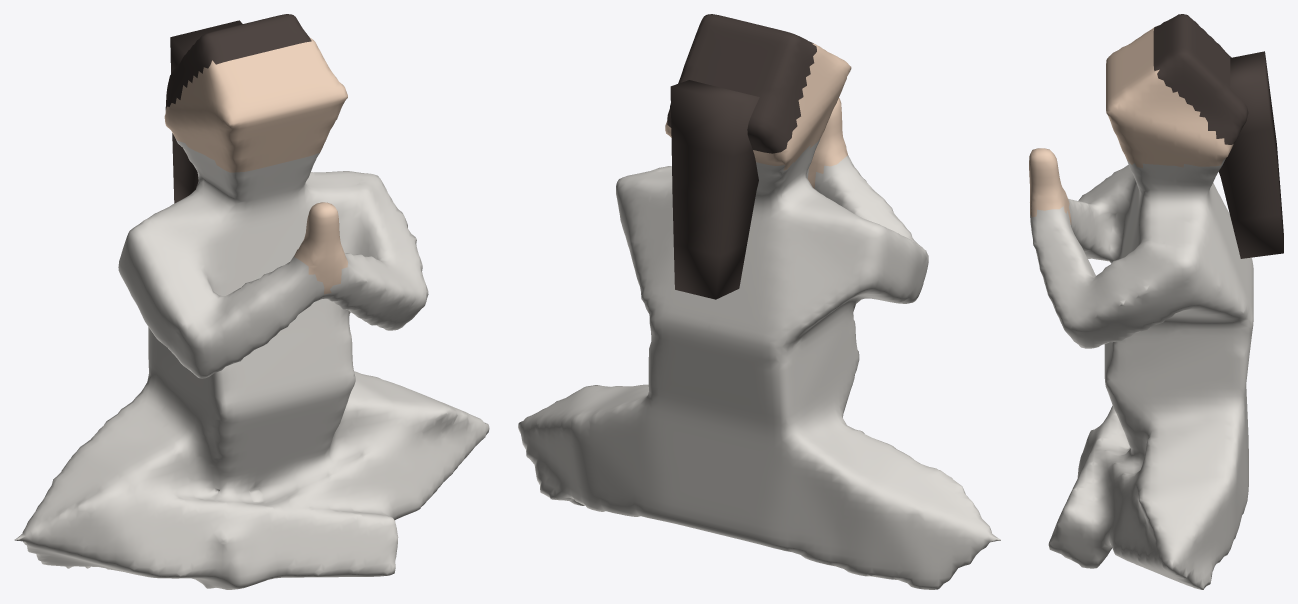
File: devotee-sit-nu.glb
3 renders of one model, left to right at view 1: azimuth 30°, elevation 25°; view 2: azimuth 150°, elevation 25°; view 3: azimuth 270°, elevation 25°, orthographic. The views are drawn at different scales.
Parts seen in each view (by area): view 1: Devotee.001; view 2: Devotee.001; view 3: Devotee.001.
Boxes of the visible parts, box(x1,y1,x2,y2) form: Devotee.001: box(14, 14, 489, 589); Devotee.001: box(518, 14, 1000, 589); Devotee.001: box(1029, 14, 1283, 589).
Bounding box in the file's own units: 0.7531 × 0.8092 × 0.3745.
